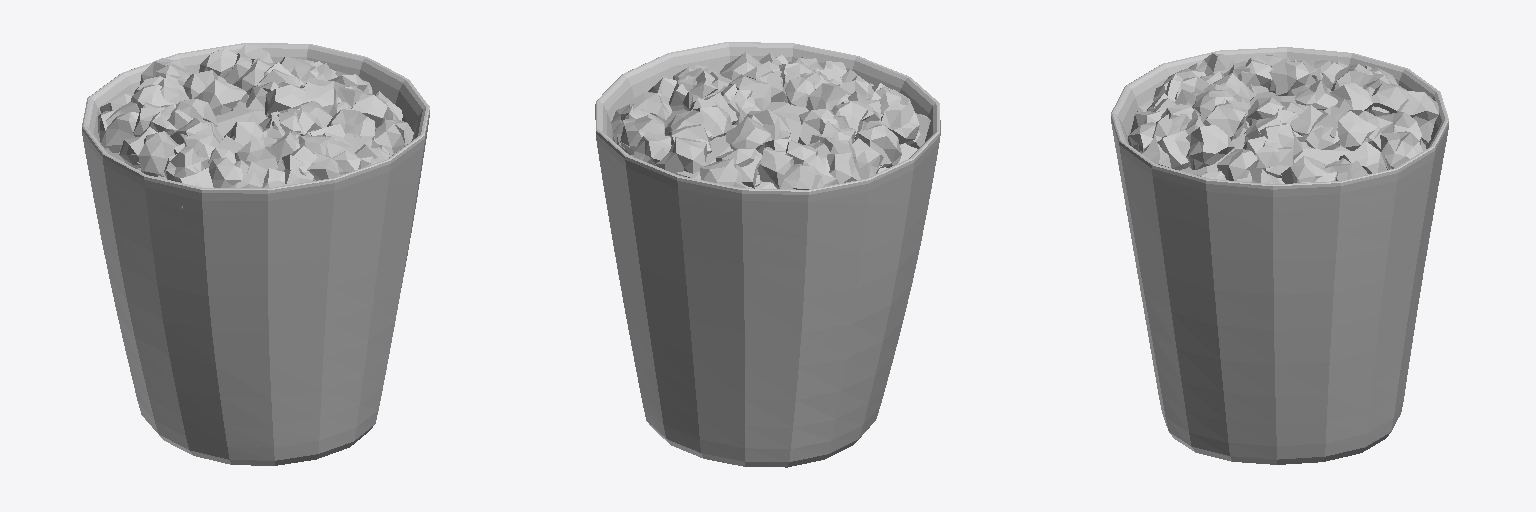
The model's file is popcorn.obj.
The picture shows the model from 3 angles: view 1: azimuth 30°, elevation 25°; view 2: azimuth 150°, elevation 25°; view 3: azimuth 270°, elevation 25°; orthographic projection.
Parts seen in each view (by area): view 1: pop_corn; view 2: pop_corn; view 3: pop_corn.
Part boxes in pixels (x1,y1,x2,y2): pop_corn: (82,43,429,465); pop_corn: (595,42,940,467); pop_corn: (1111,47,1448,464).
Bounding box in the file's own units: 0.3058 × 0.3278 × 0.2993.